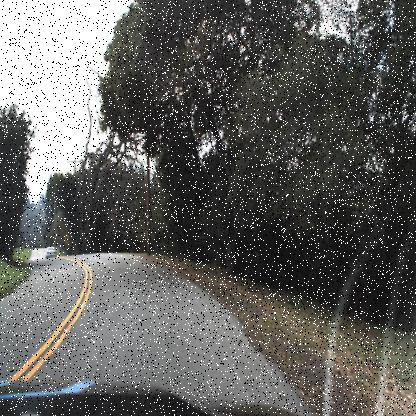car: (42, 236, 60, 262)
